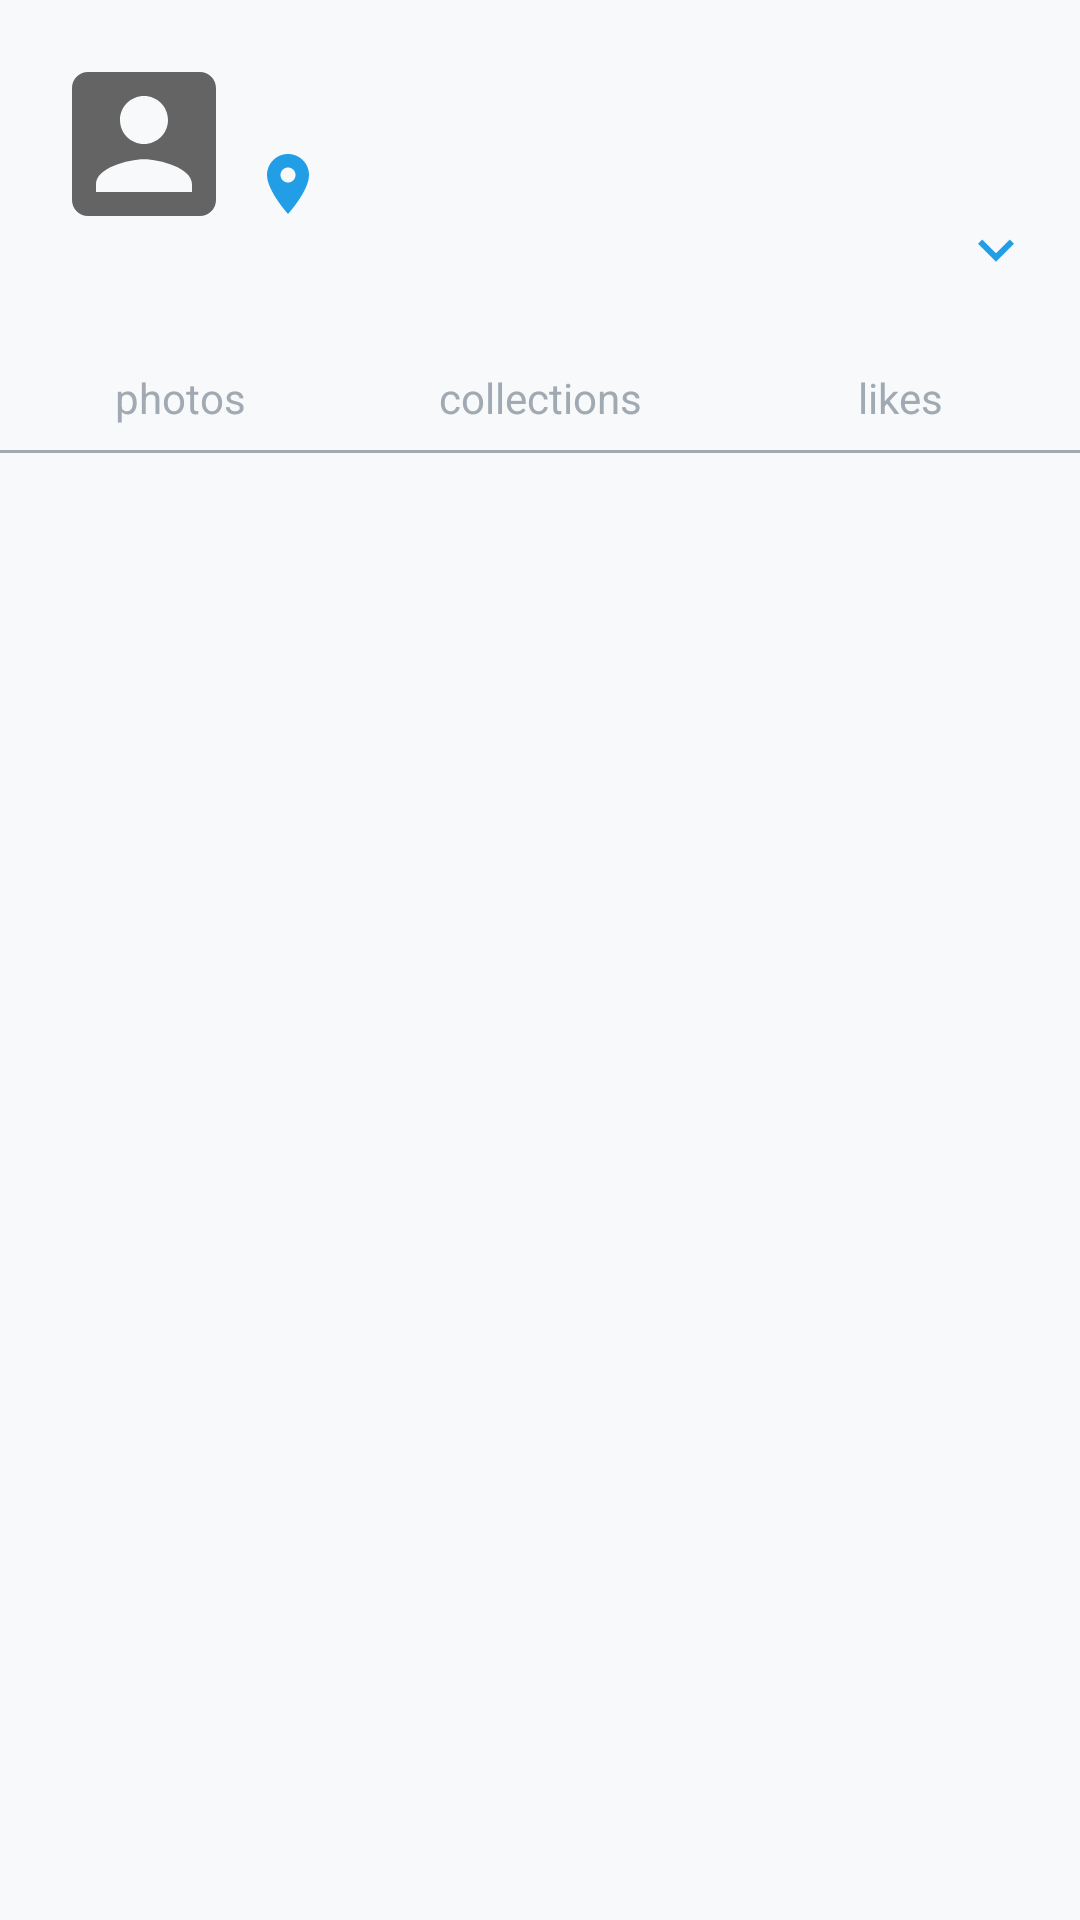

Icon click points for this 1080*1920 phone screenshot, format (x=x, y=y):
account box: (x=144, y=144)
arrow down: (x=996, y=250)
